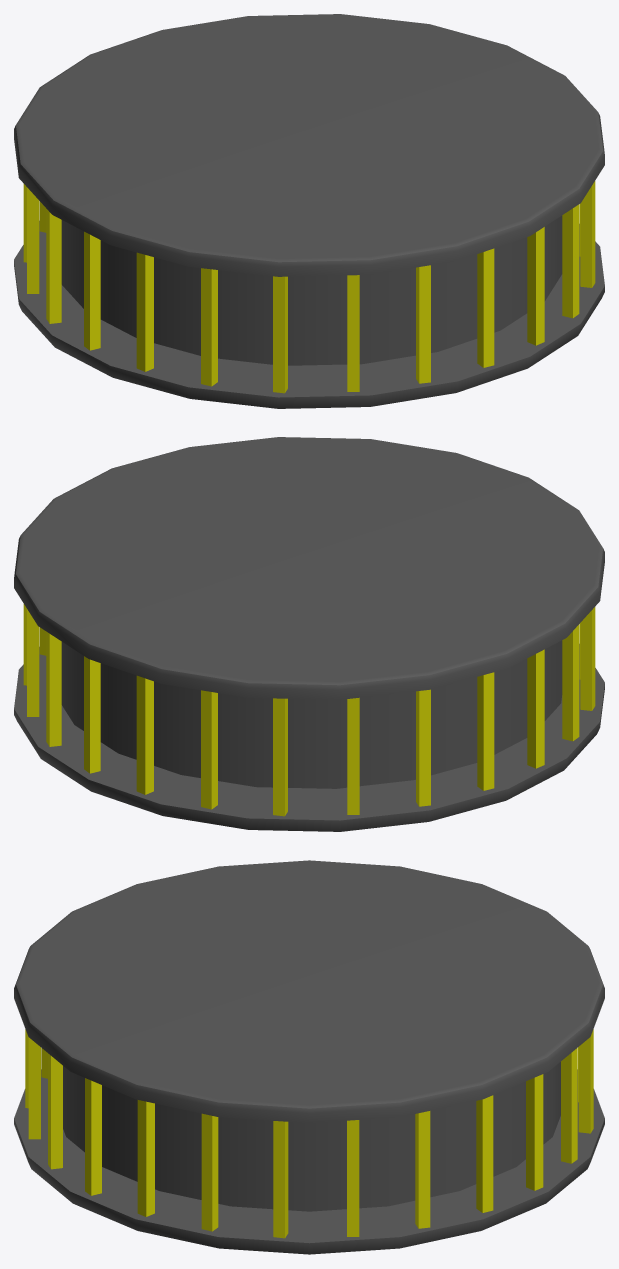
File: circular.fbx
The picture shows the model from 3 angles, top to bottom: view 1: azimuth 30°, elevation 25°; view 2: azimuth 150°, elevation 25°; view 3: azimuth 270°, elevation 25°; orthographic projection.
Visible parts, largest first — view 1: circular; view 2: circular; view 3: circular.
Part boxes in pixels (x1,y1,x2,y2): circular: [14, 14, 604, 408]; circular: [14, 437, 604, 831]; circular: [14, 860, 604, 1254].
Bounding box in the file's own units: 5.57 × 1.57 × 5.57.
